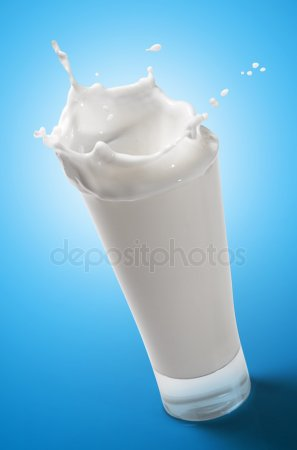glass of milk: (64, 157, 273, 424)
